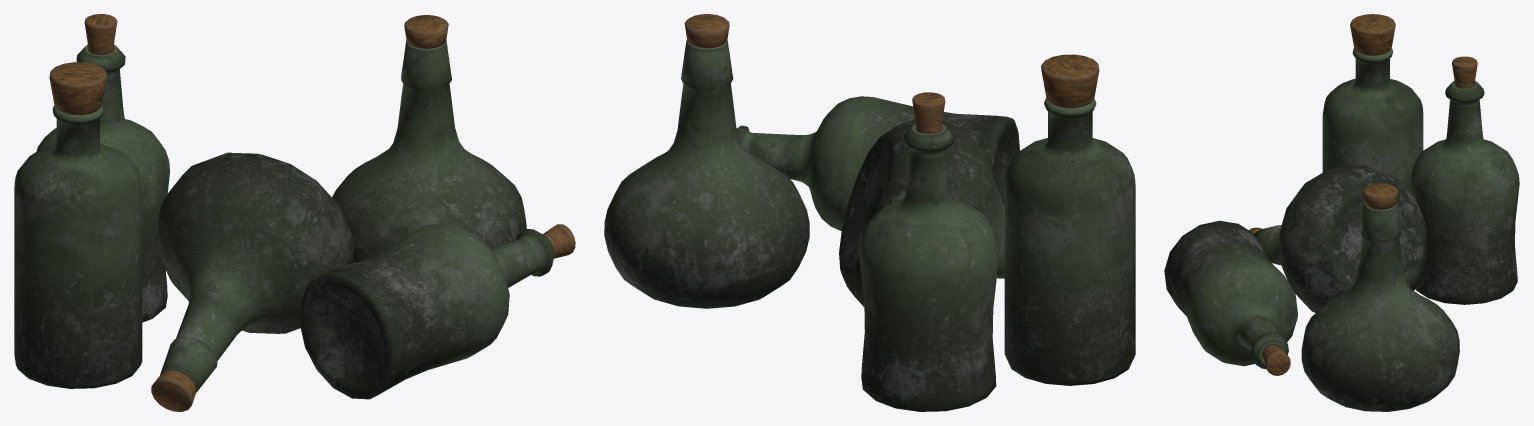
The model's file is Bottle_set_1.fbx.
3 views of the same model, side by side, from view 1: azimuth 30°, elevation 25°; view 2: azimuth 150°, elevation 25°; view 3: azimuth 270°, elevation 25° (orthographic). The views are drawn at different scales.
Parts seen in each view (by area): view 1: Bottle_set_1; view 2: Bottle_set_1; view 3: Bottle_set_1.
Boxes of the visible parts, bbox=[...] form: Bottle_set_1: bbox=[14, 14, 575, 411]; Bottle_set_1: bbox=[604, 14, 1135, 411]; Bottle_set_1: bbox=[1164, 14, 1519, 411].
Size of the model in its own units: 58.82 by 33.1 by 46.4.
